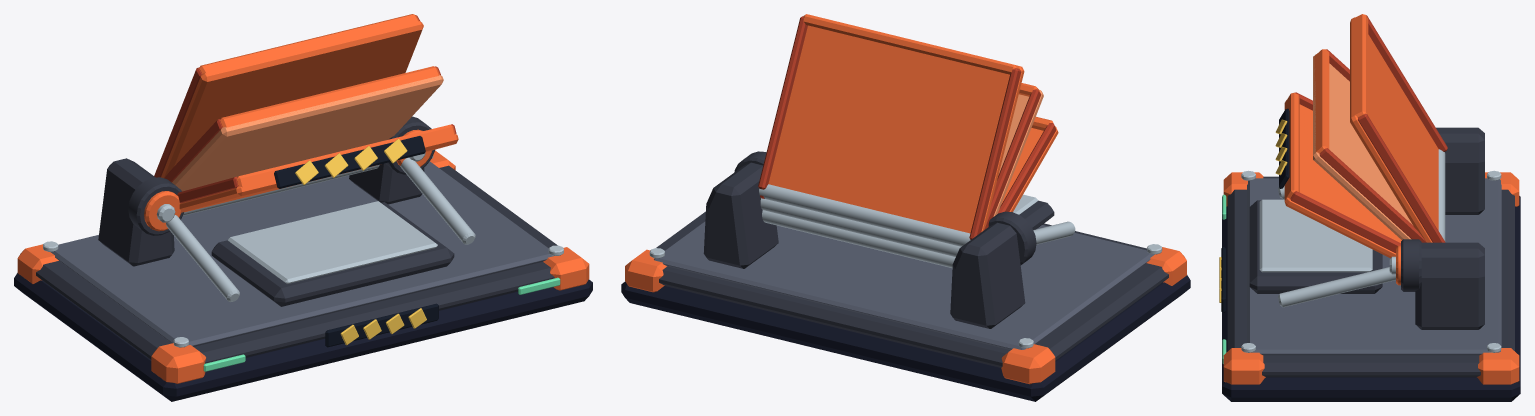
File: OrigamiClamp.fbx
The picture shows the model from 3 angles, left to right: view 1: azimuth 30°, elevation 25°; view 2: azimuth 150°, elevation 25°; view 3: azimuth 270°, elevation 25°; orthographic projection. The views are drawn at different scales.
Visible parts, largest first — view 1: Frame, Fold_2, Fold_3, Fold_1; view 2: Frame, Fold_3, Fold_2, Fold_1; view 3: Frame, Fold_3, Fold_2, Fold_1.
Boxes of the visible parts, left/top/right/bottom form: Frame: left=14, top=116, right=592, bottom=401; Fold_2: left=164, top=66, right=443, bottom=191; Fold_3: left=154, top=14, right=423, bottom=178; Fold_1: left=177, top=124, right=458, bottom=215; Frame: left=621, top=151, right=1190, bottom=401; Fold_3: left=758, top=14, right=1024, bottom=246; Fold_2: left=760, top=83, right=1043, bottom=256; Fold_1: left=762, top=116, right=1058, bottom=268; Frame: left=1219, top=127, right=1520, bottom=401; Fold_3: left=1350, top=14, right=1447, bottom=242; Fold_2: left=1313, top=49, right=1426, bottom=242; Fold_1: left=1275, top=92, right=1401, bottom=258.
Size of the model in its own units: 456 by 264 by 295.
Materials: 1 (1 with a texture image).
